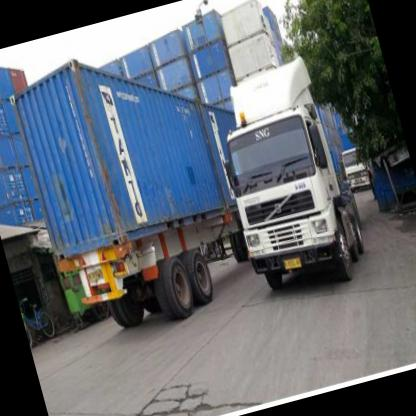truck: (217, 105, 362, 303)
